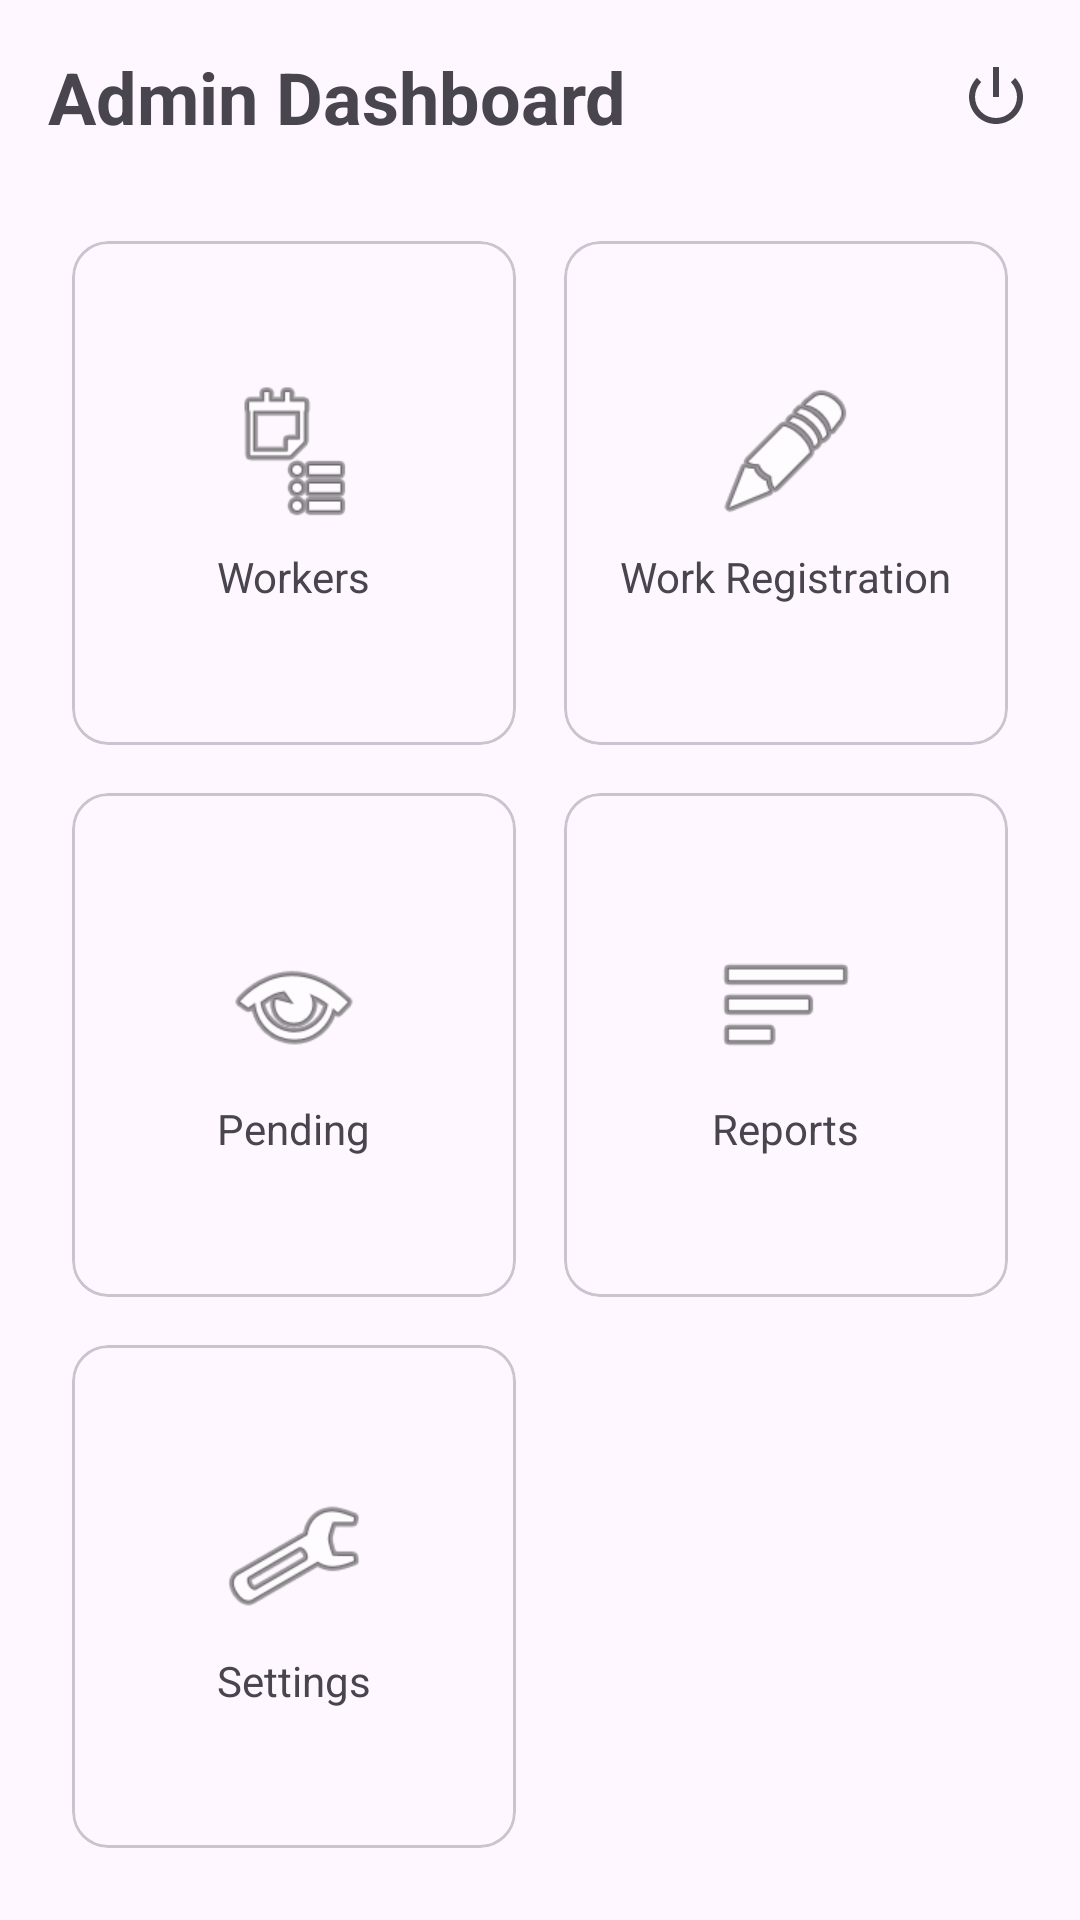

Named icons in this screenshot (1080w x 1920h) and their bounding boxes, BBox(x1, y1, x2, y2):
agenda: BBox(244, 387, 345, 515)
edit: BBox(724, 390, 846, 512)
manage: BBox(229, 1506, 359, 1606)
sort by size: BBox(724, 964, 848, 1045)
view: BBox(235, 971, 353, 1045)
